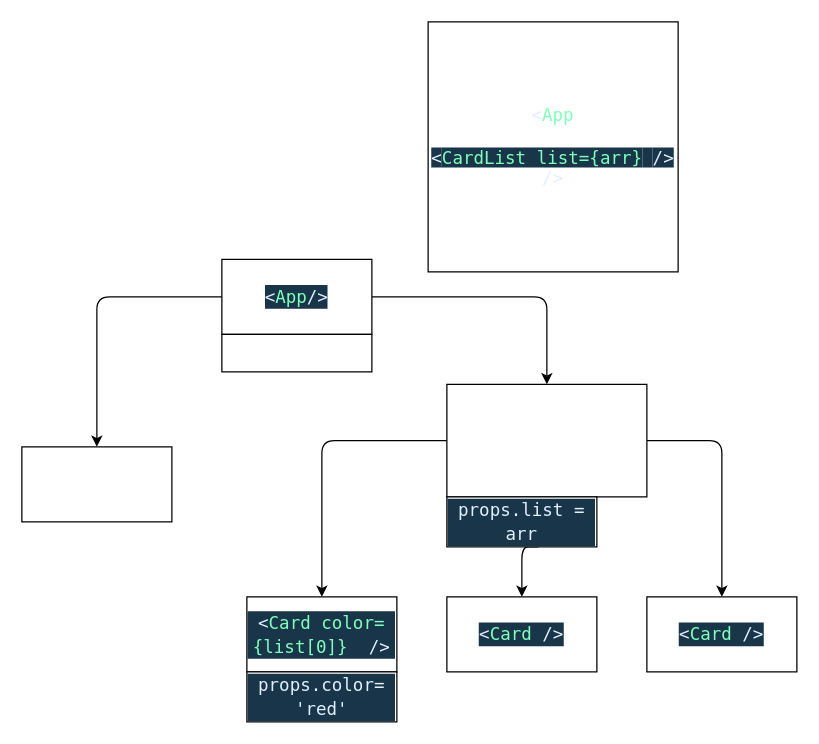
This 819x744 diagram has some shape labels left out. Each missing label, with the centre of its shape:
"< CardList />" belongs at point (546, 440).
"< Header />" belongs at point (96, 484).
"list={arr}" belongs at point (296, 352).
